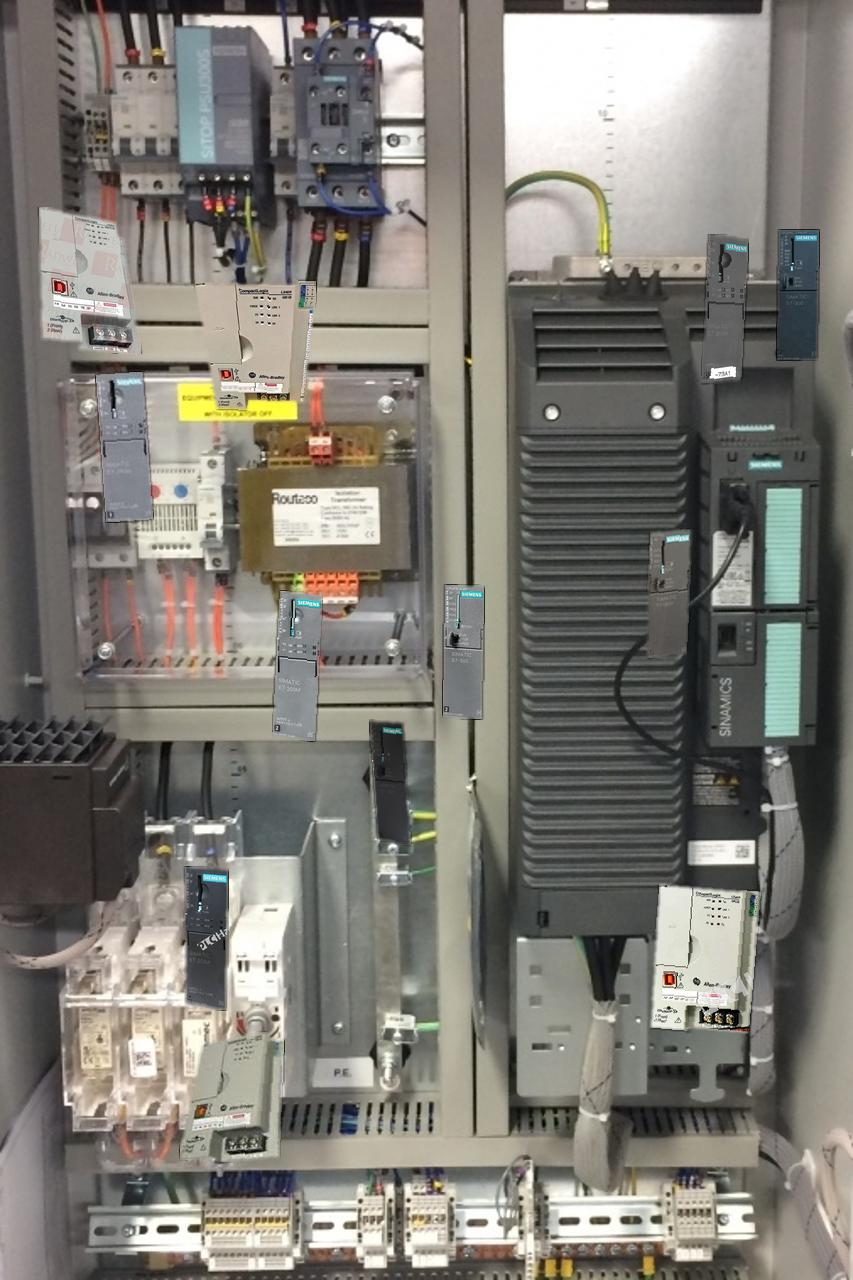AllenBradley: (651, 885, 759, 1031), (195, 280, 315, 409), (39, 207, 140, 353), (180, 1032, 283, 1161)
Siemens: (647, 529, 690, 657), (443, 585, 483, 718), (777, 230, 818, 359), (370, 721, 409, 844)
